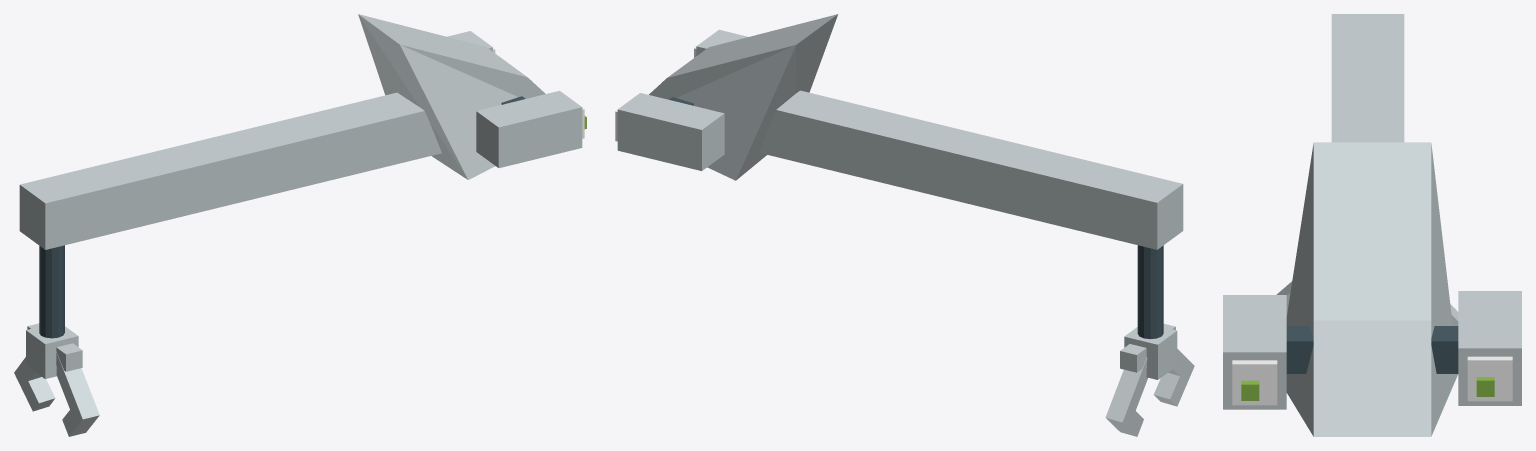
Rendered from RobotHead.obj.
3 renders of one model, left to right at view 1: azimuth 30°, elevation 25°; view 2: azimuth 150°, elevation 25°; view 3: azimuth 270°, elevation 25°, orthographic. The views are drawn at different scales.
Parts seen in each view (by area): view 1: group1355889417; view 2: group1355889417; view 3: group1355889417.
Boxes of the visible parts, x1=… form: group1355889417: x1=14, y1=14, x2=586, y2=436; group1355889417: x1=615, y1=14, x2=1194, y2=436; group1355889417: x1=1223, y1=14, x2=1521, y2=436.
Size of the model in its own units: 0.945 by 0.5357 by 0.33.
